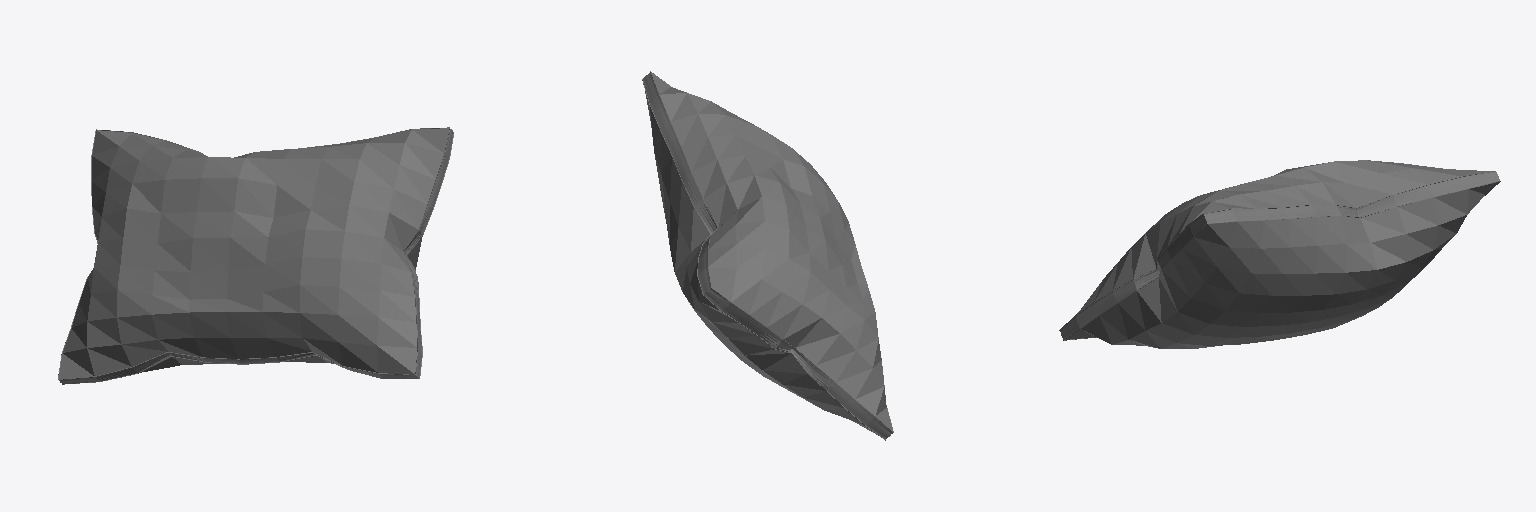
File: cushen.obj
The picture shows the model from 3 angles: view 1: azimuth 30°, elevation 25°; view 2: azimuth 150°, elevation 25°; view 3: azimuth 270°, elevation 25°; orthographic projection.
Parts seen in each view (by area): view 1: Cushen; view 2: Cushen; view 3: Cushen.
Boxes of the visible parts, <box> form: Cushen: <box>58,127,453,384</box>; Cushen: <box>642,71,893,440</box>; Cushen: <box>1059,160,1500,348</box>.
Size of the model in its own units: 1.06 by 0.7402 by 1.25.